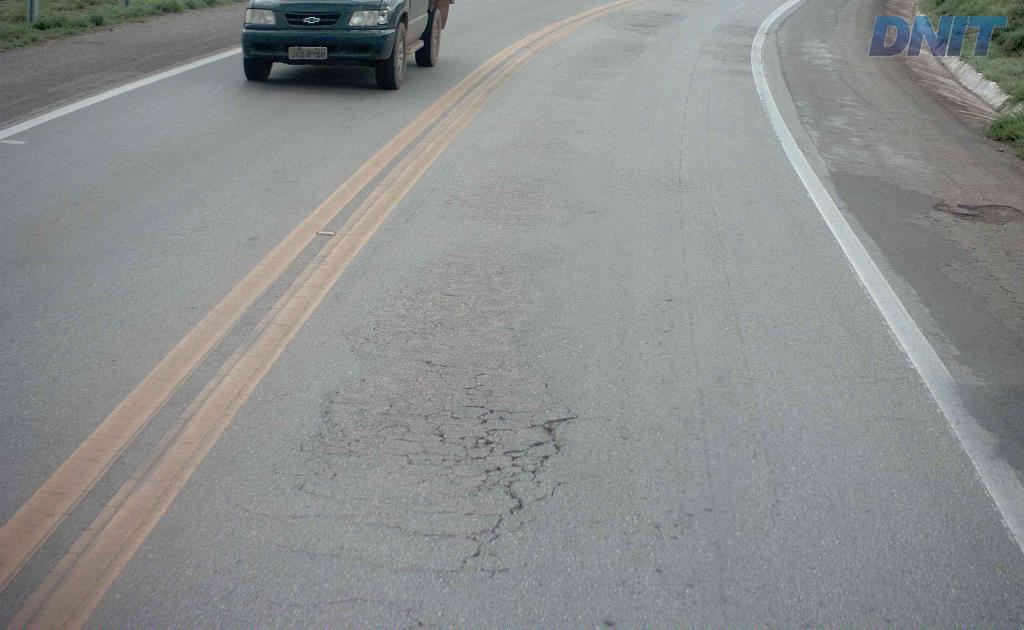crack: (502, 414, 577, 456)
